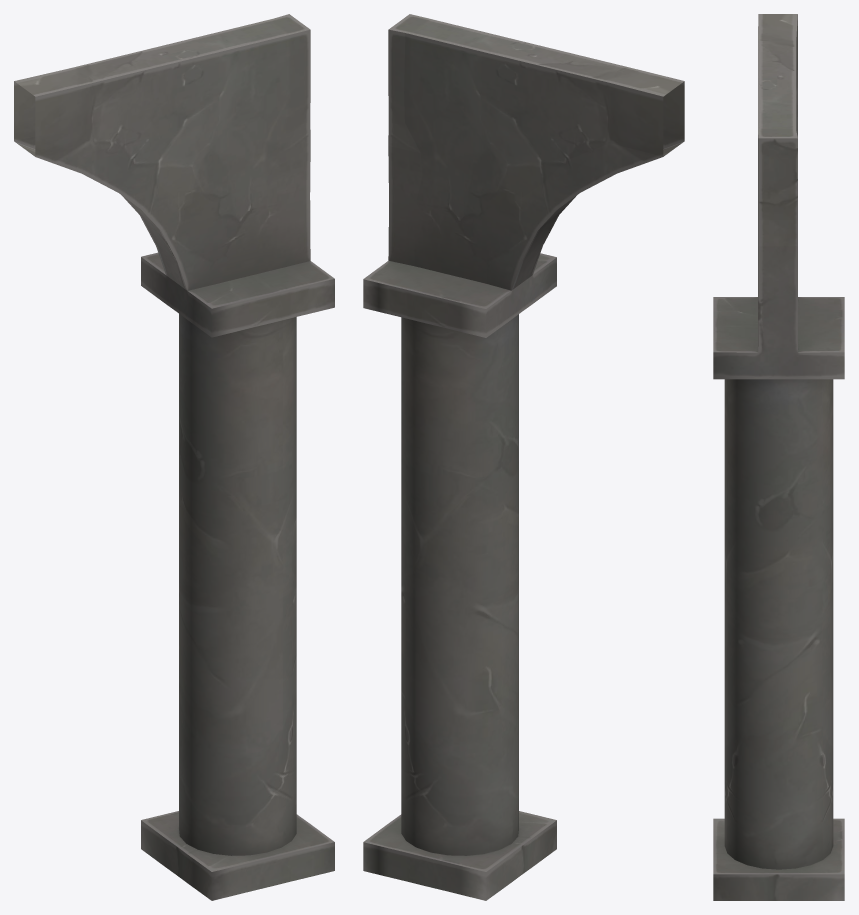
The model's file is Right_ArchPillar.fbx.
3 views of the same model, side by side, from view 1: azimuth 30°, elevation 25°; view 2: azimuth 150°, elevation 25°; view 3: azimuth 270°, elevation 25° (orthographic). The views are drawn at different scales.
Parts seen in each view (by area): view 1: polySurface3; view 2: polySurface3; view 3: polySurface3.
Boxes of the visible parts, <box> form: polySurface3: <box>14,14,334,900</box>; polySurface3: <box>363,14,684,900</box>; polySurface3: <box>713,14,844,900</box>.
Bounding box in the file's own units: 4.48 × 12.79 × 2.
1 material, 1 textured.
